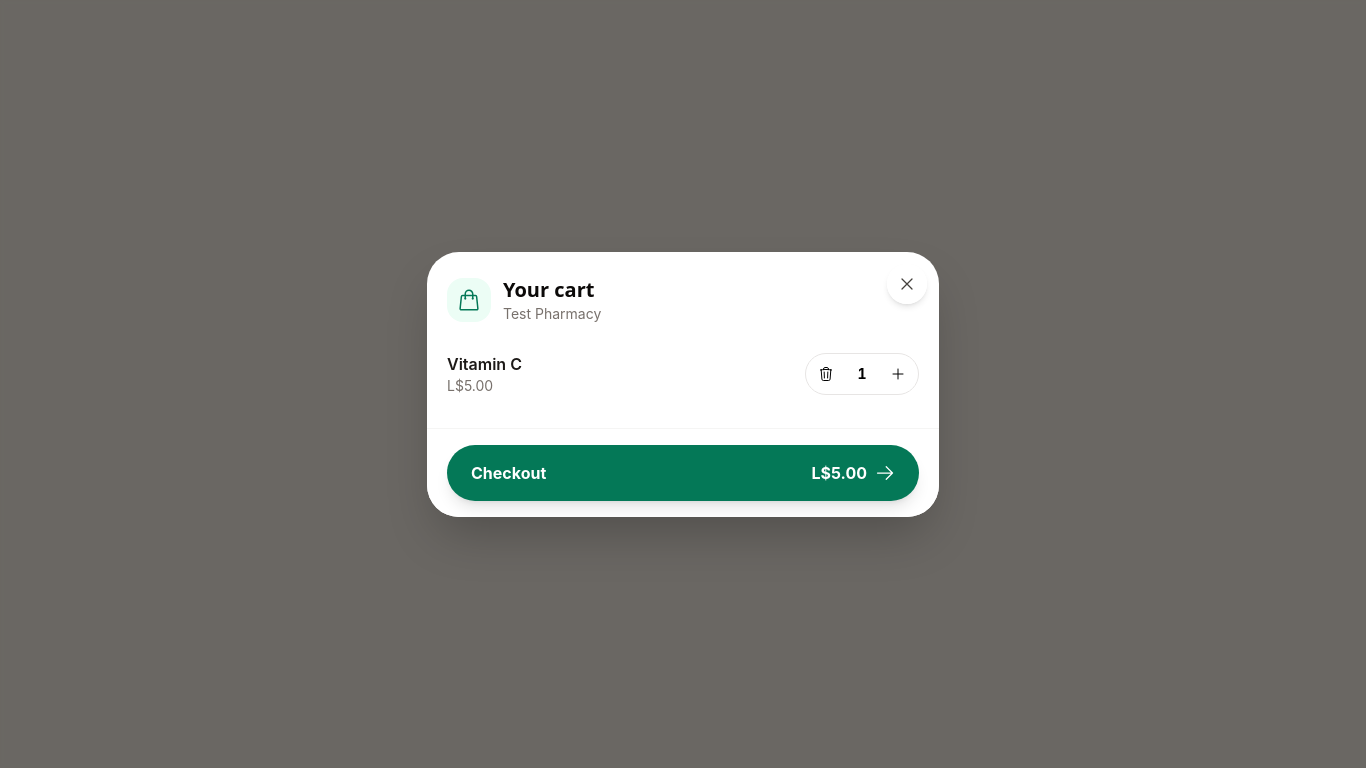
Test case: PharmacyCheckoutSheet › asks for an address and phone for delivery
Click the button "Checkout L$5.00" at (509, 472), box [447, 444, 919, 500]
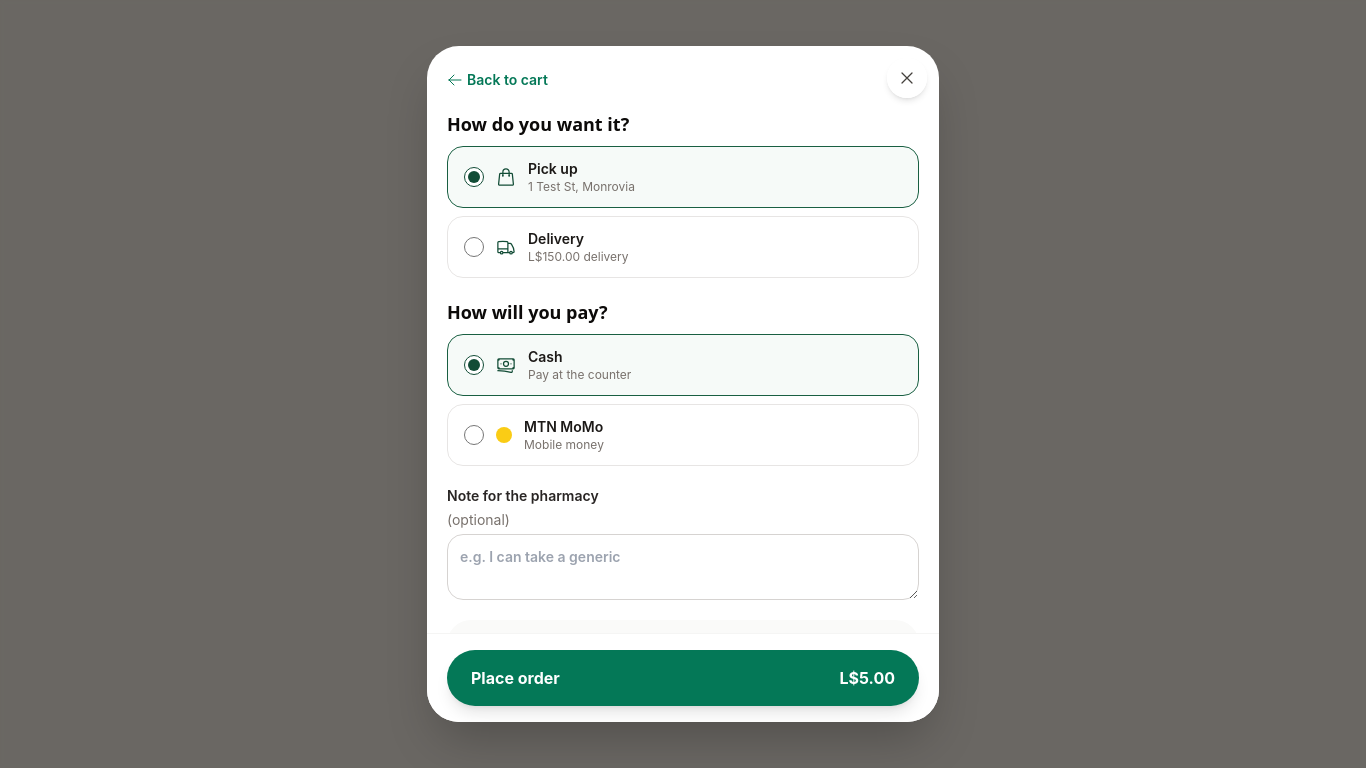
Click the radio button labelled "Delivery L$150.00 delivery" at (474, 247), box [464, 237, 484, 257]
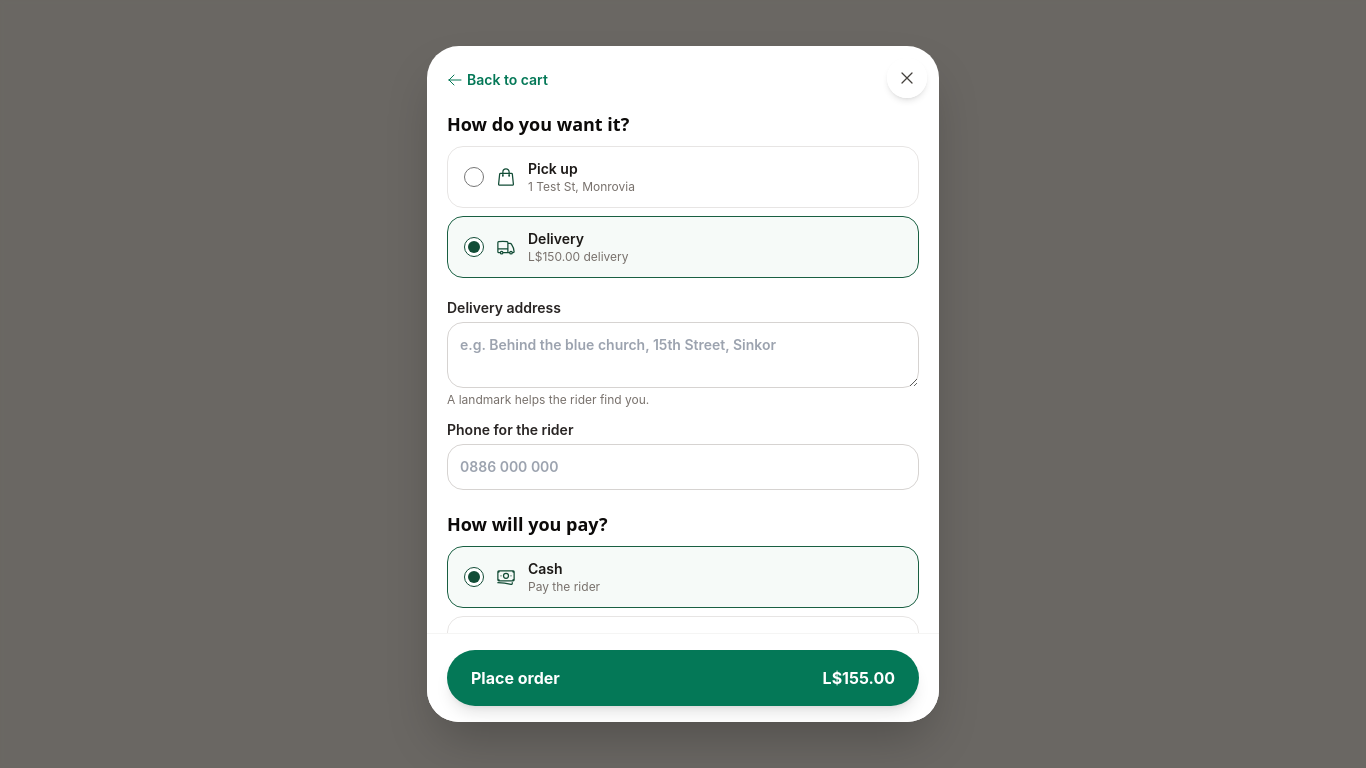
Click the button "Place order L$155.00" at (515, 678), box [447, 650, 919, 706]
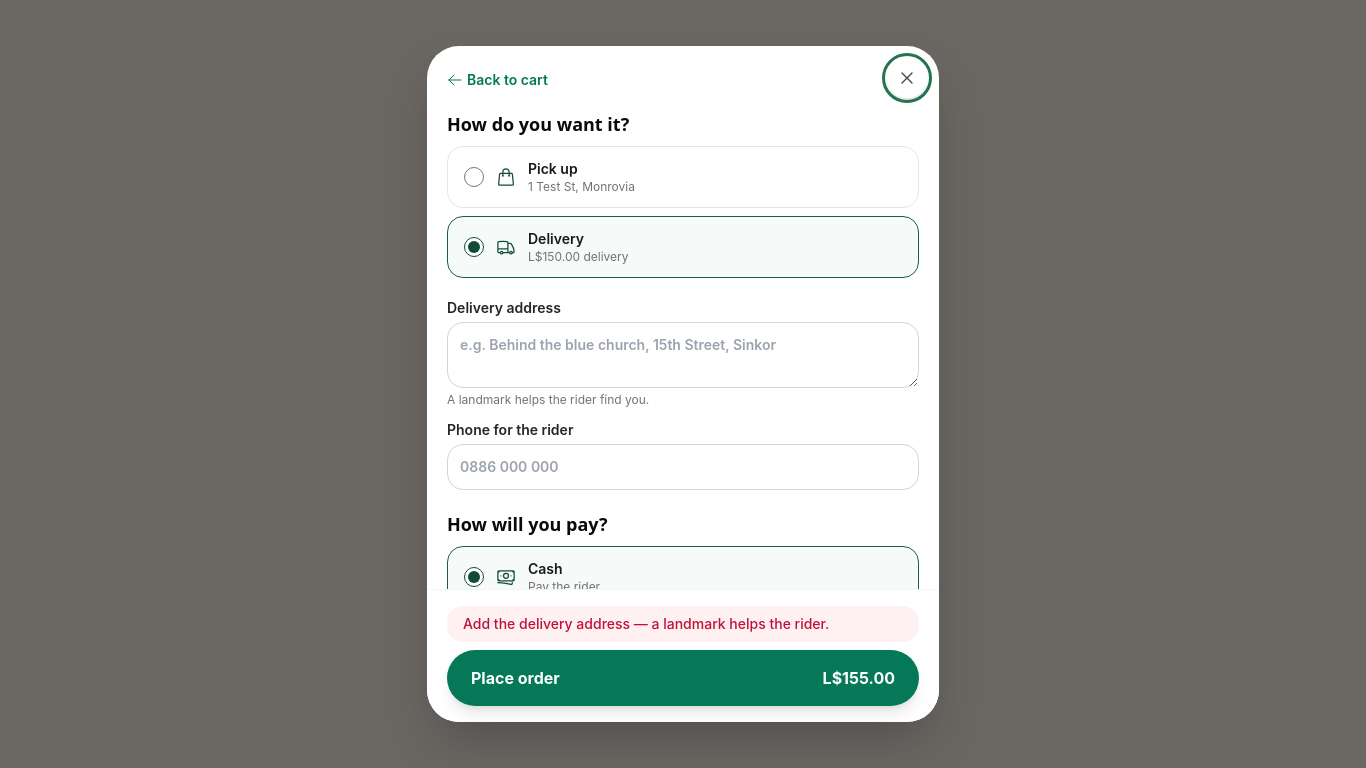
Expected: the message shows "delivery address", [463, 615, 829, 632]
Type "Behind the blue church, Sinkor" into the text box with placeholder "e.g. Behind the blue church, 15th Street, Sinkor" at (683, 355), box [447, 322, 919, 388]
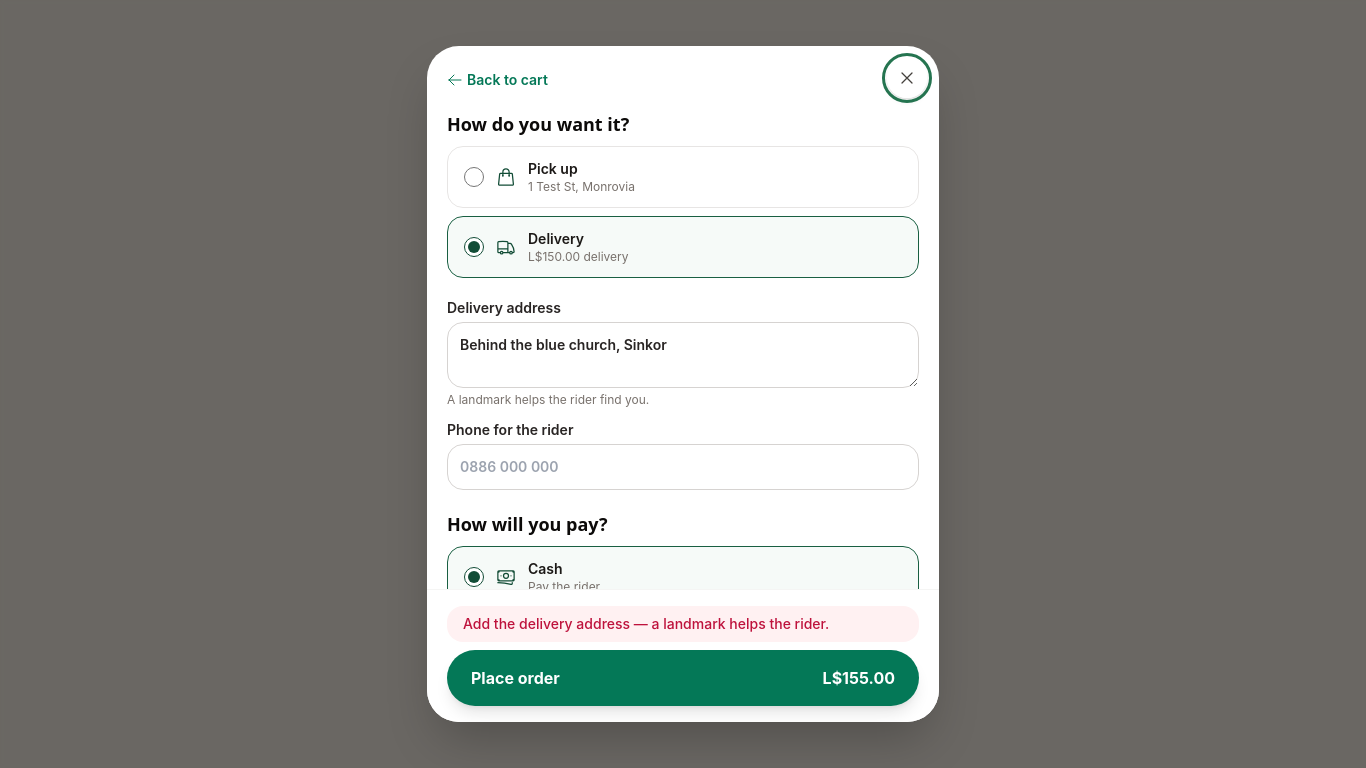
Click the button "Place order L$155.00" at (515, 678), box [447, 650, 919, 706]
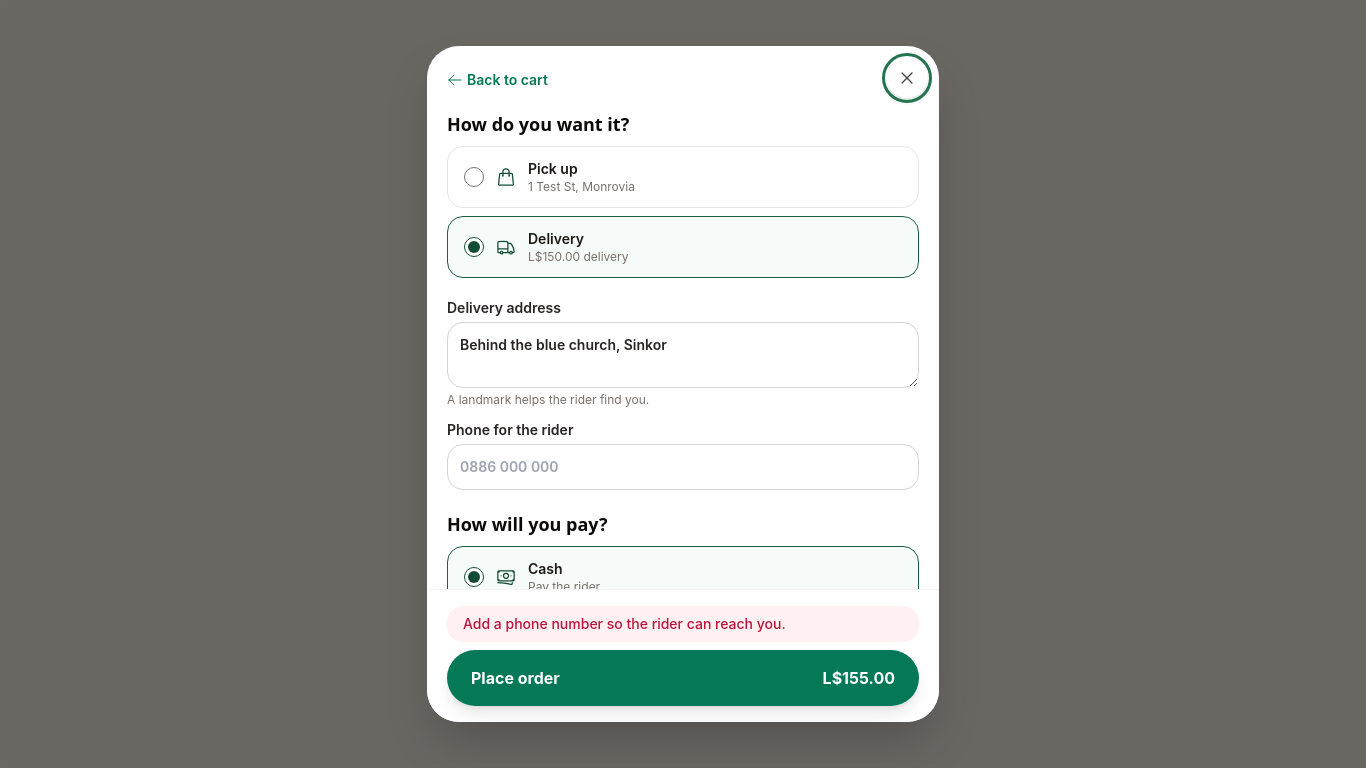
Expected: the message shows "phone number", [463, 615, 786, 632]
